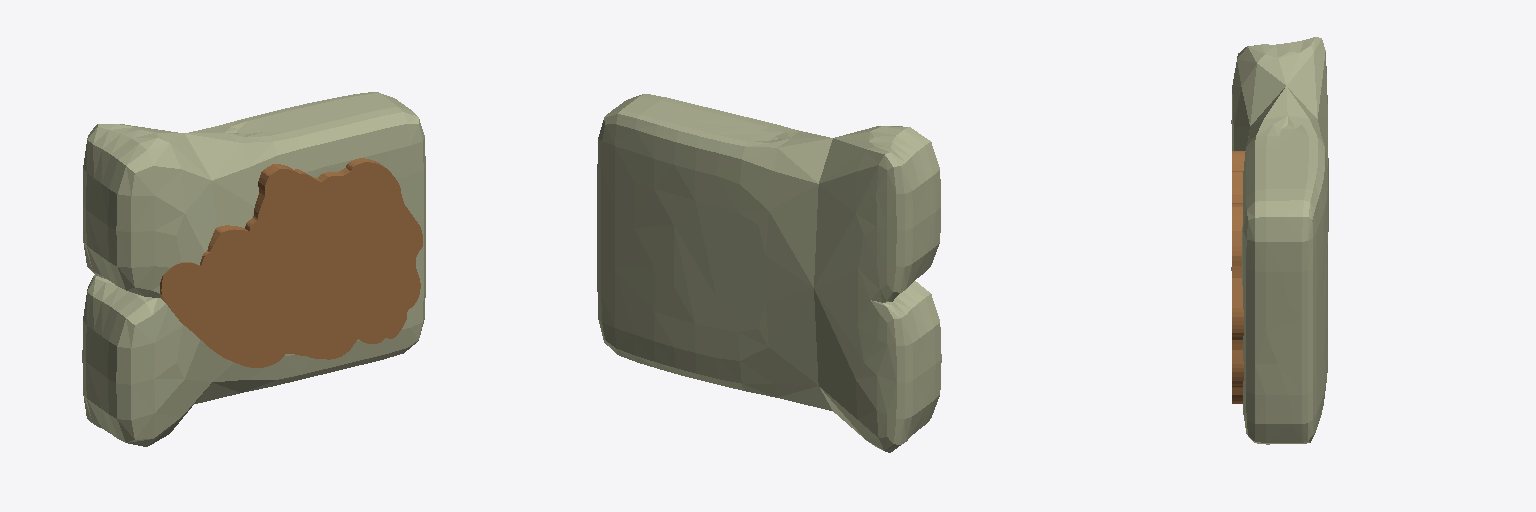
File: tinker.obj
The picture shows the model from 3 angles: view 1: azimuth 30°, elevation 25°; view 2: azimuth 150°, elevation 25°; view 3: azimuth 270°, elevation 25°; orthographic projection.
Visible parts, largest first — view 1: obj_0; view 2: obj_0; view 3: obj_0.
Part boxes in pixels (x1,y1,x2,y2): obj_0: (82,92,425,446); obj_0: (597,94,941,452); obj_0: (1231,37,1328,444).
Bounding box in the file's own units: 2.7 × 2.46 × 0.718.